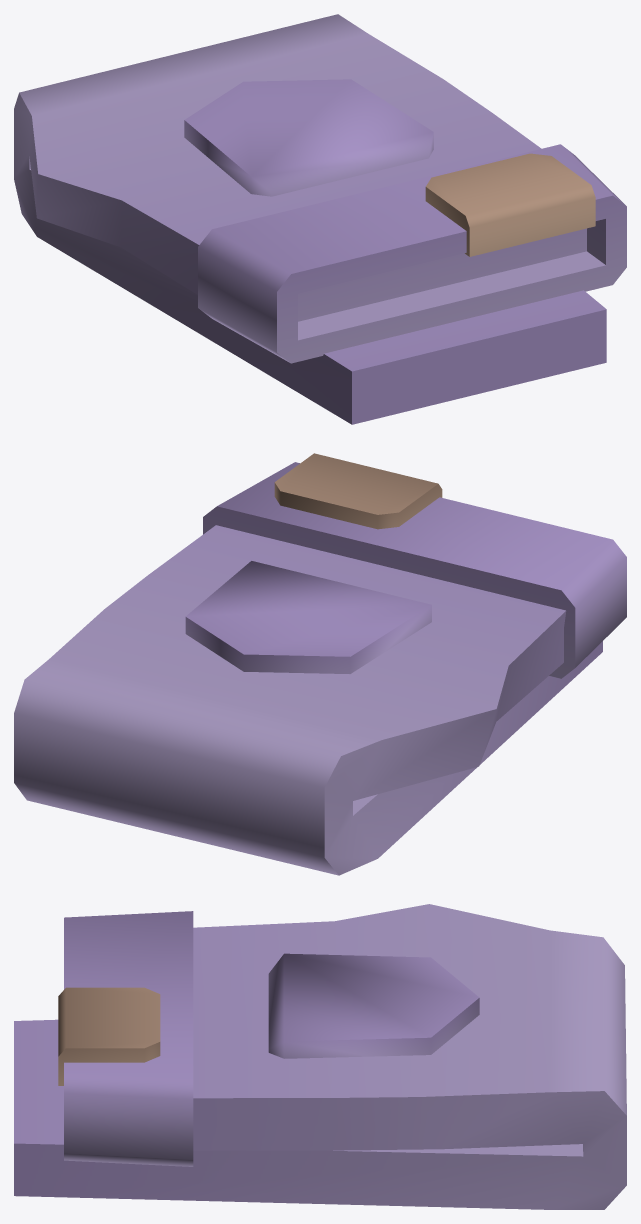
The model's file is clothing-floor-pants-folded.glb.
3 renders of one model, top to bottom at view 1: azimuth 30°, elevation 25°; view 2: azimuth 150°, elevation 25°; view 3: azimuth 270°, elevation 25°, orthographic.
Visible parts, largest first — view 1: clothing-floor-pants-folded; view 2: clothing-floor-pants-folded; view 3: clothing-floor-pants-folded.
Boxes of the visible parts, bbox=[...] form: clothing-floor-pants-folded: bbox=[14, 14, 626, 424]; clothing-floor-pants-folded: bbox=[14, 453, 626, 875]; clothing-floor-pants-folded: bbox=[14, 904, 626, 1209].
Bounding box in the file's own units: 0.3054 × 0.1088 × 0.3945.
